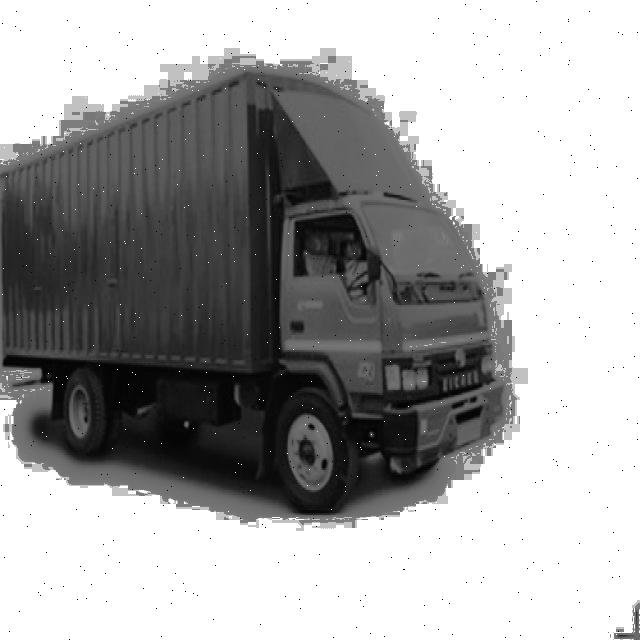HCV: (0, 55, 513, 520)
